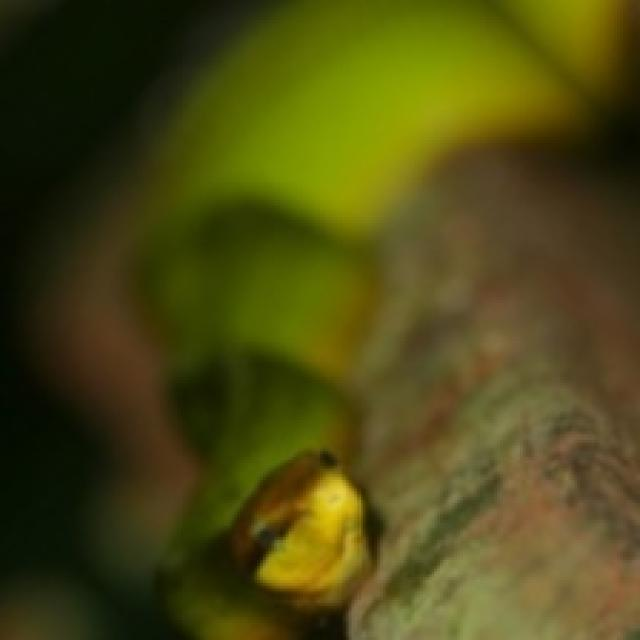red-tailed green ratsnake: (229, 451, 371, 606)
